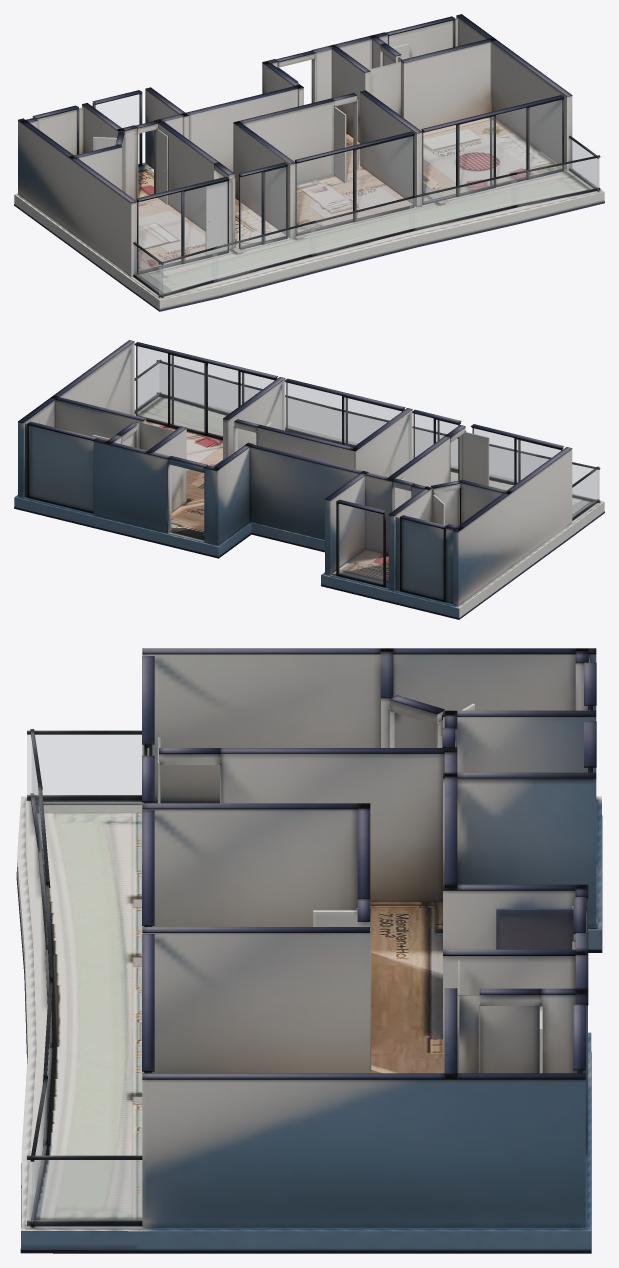
3 renders of one model, top to bottom at view 1: azimuth 30°, elevation 25°; view 2: azimuth 150°, elevation 25°; view 3: azimuth 270°, elevation 25°, orthographic. The views are drawn at different scales.
Visible parts, largest first — view 1: plan, glass6_m, glass5_m, glass3_m, railg3_m, railg4_m, railg5_m, glass4_m, railg2_m, railg6_m, glass1_m, railg1_m (+1 smaller); view 2: plan, glass6_m, glass2_m, glass5_m, glass1_m, glass0_m, glass3_m, railg2_m, railg3_m, glass4_m, railg5_m, railg4_m (+3 smaller); view 3: plan, railg0_m, railg1_m.
Boxes of the visible parts, x1,y1,x2,y2 form: plan: [14, 14, 604, 311]; glass6_m: [423, 100, 561, 202]; glass5_m: [296, 136, 412, 233]; glass3_m: [138, 182, 227, 271]; railg3_m: [410, 175, 516, 228]; railg4_m: [311, 198, 414, 254]; railg5_m: [212, 224, 314, 279]; glass4_m: [240, 167, 285, 246]; railg2_m: [511, 158, 599, 205]; railg6_m: [159, 249, 217, 294]; glass1_m: [96, 94, 139, 163]; railg1_m: [134, 245, 162, 294]; plan: [14, 340, 604, 619]; glass6_m: [136, 346, 273, 436]; glass2_m: [30, 426, 92, 510]; glass5_m: [286, 382, 401, 446]; glass1_m: [338, 504, 382, 584]; glass0_m: [402, 520, 442, 598]; glass3_m: [472, 428, 560, 489]; railg2_m: [160, 363, 234, 412]; railg3_m: [241, 386, 332, 439]; glass4_m: [413, 413, 457, 481]; railg5_m: [436, 434, 535, 482]; railg4_m: [333, 410, 432, 456]; plan: [16, 648, 602, 1253]; railg0_m: [27, 1160, 141, 1220]; railg1_m: [27, 735, 141, 795].
Size of the model in its own units: 14.18 by 2.62 by 8.06.
2 materials, 1 textured.
